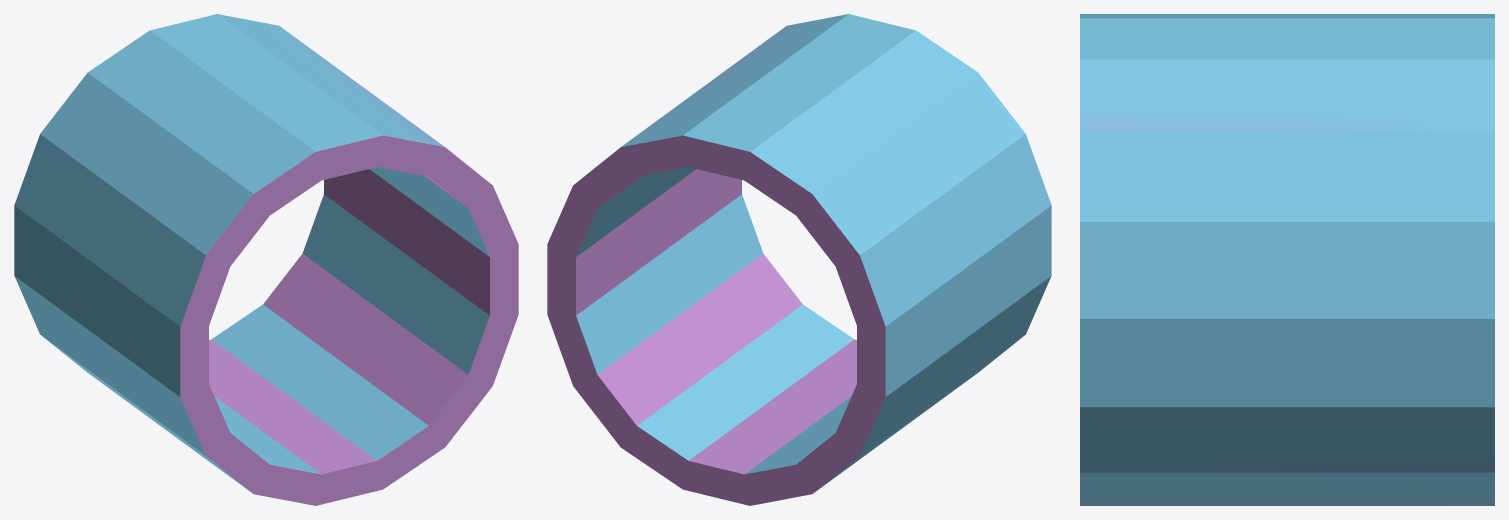
Rendered from Default_Tonnel.fbx.
The picture shows the model from 3 angles, left to right: view 1: azimuth 30°, elevation 25°; view 2: azimuth 150°, elevation 25°; view 3: azimuth 270°, elevation 25°; orthographic projection. The views are drawn at different scales.
Visible parts, largest first — view 1: Default_Tonnel; view 2: Default_Tonnel; view 3: Default_Tonnel.
Part boxes in pixels (box(x1,y1,x2,y2)): Default_Tonnel: box(14, 14, 518, 505); Default_Tonnel: box(547, 14, 1051, 505); Default_Tonnel: box(1080, 14, 1494, 505).
Size of the model in its own units: 2354 by 2354 by 2000.
Materials: 1 (1 with a texture image).
